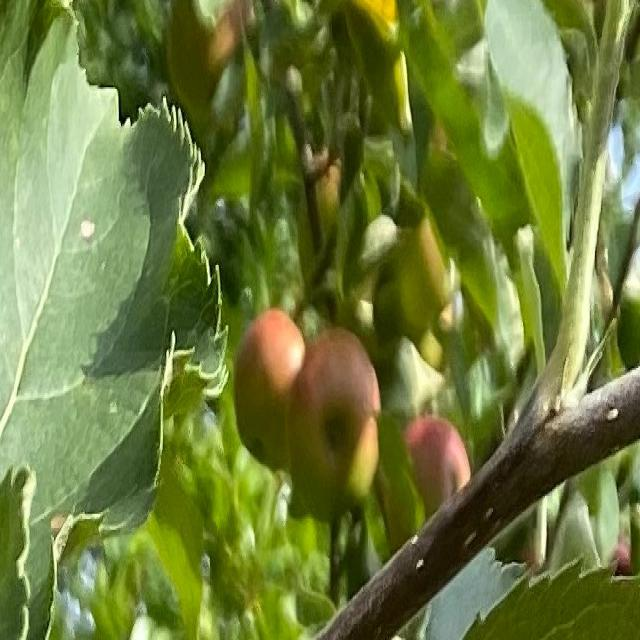Apples: (289, 331, 377, 505), (239, 316, 303, 458), (403, 418, 469, 517)
